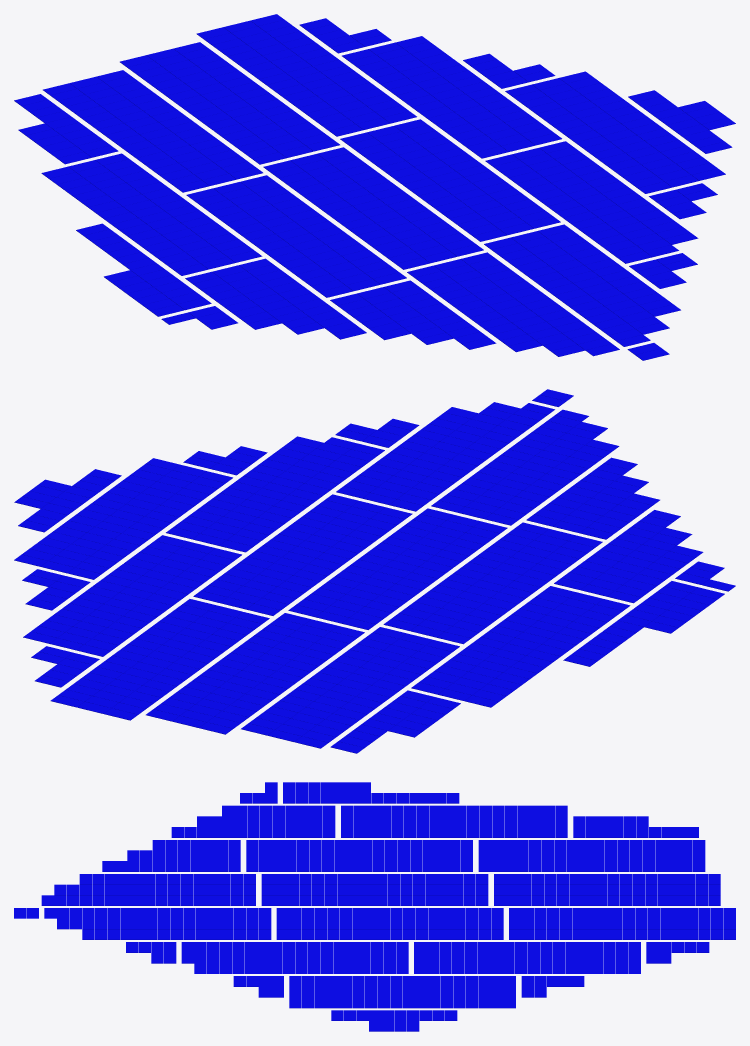
Rendered from GLTF.glb.
The picture shows the model from 3 angles, top to bottom: view 1: azimuth 30°, elevation 25°; view 2: azimuth 150°, elevation 25°; view 3: azimuth 270°, elevation 25°; orthographic projection. The views are drawn at different scales.
Size of the model in its own units: 53.9 by 0.03 by 66.04.
